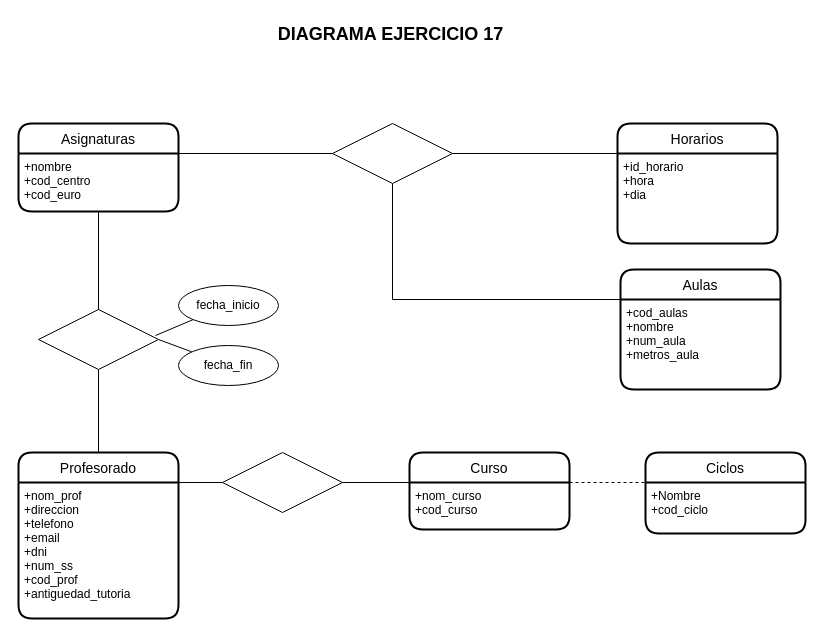
This 823x636 diagram has some shape labels left out. Each missing label, with the centre of its shape:
"IMPARTE" goes at [98,339].
"Ocupa" goes at [392,153].
"TUTOR" goes at [282,482].
